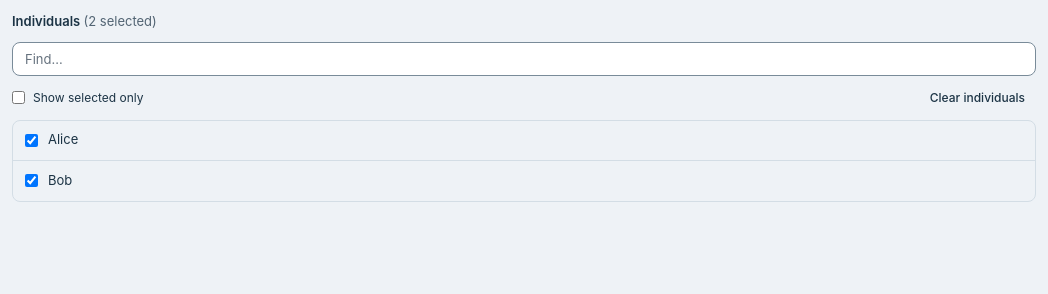
Test: keeps selected-only choices stable while changing live selections, until search or mode refreshes
Expected: the checkbox labelled "Alice" is shown, 25,134 -> 38,146
Click the checkbox labelled "Show selected only" at (18, 98), box 12,91 -> 25,104
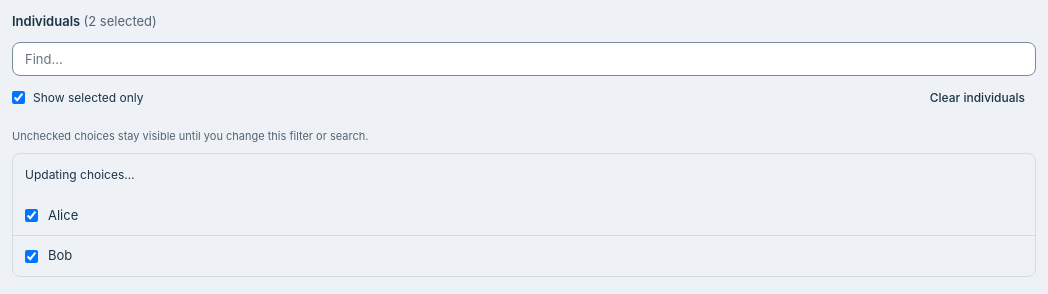
Click the checkbox labelled "Alice" at (32, 216), box 25,209 -> 38,222
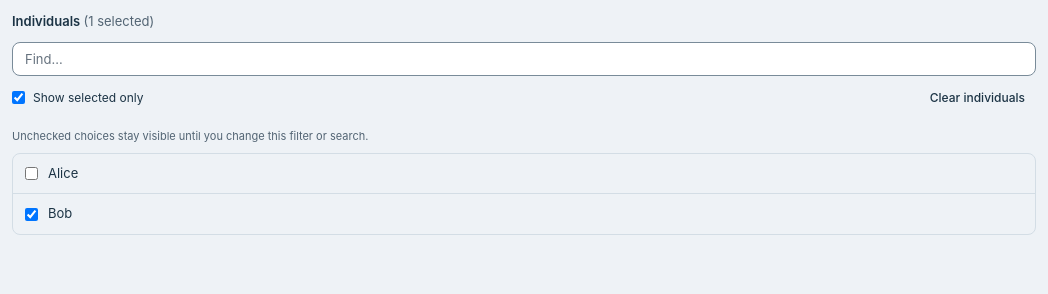
Expected: the checkbox labelled "Alice" is not checked
Expected: the text "(1 selected)" is shown, 84,13 -> 154,29
Click the checkbox labelled "Alice" at (32, 174), box 25,167 -> 38,180
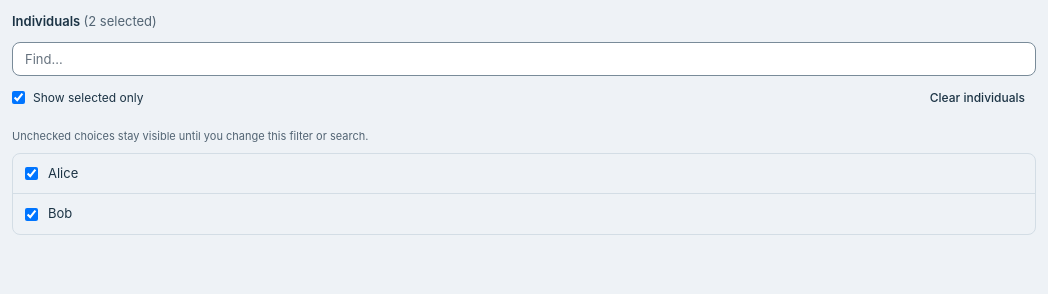
Expected: the checkbox labelled "Alice" is checked
Click the checkbox labelled "Alice" at (32, 174), box 25,167 -> 38,180
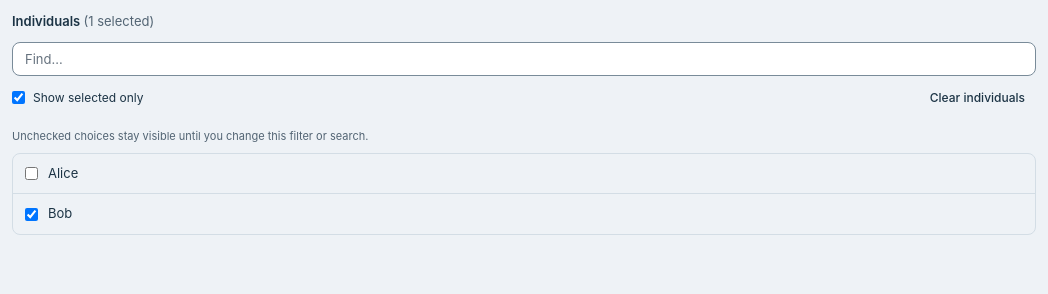
Type "alice" into the field named "Find individuals" at (524, 58), box 12,42 -> 1036,76
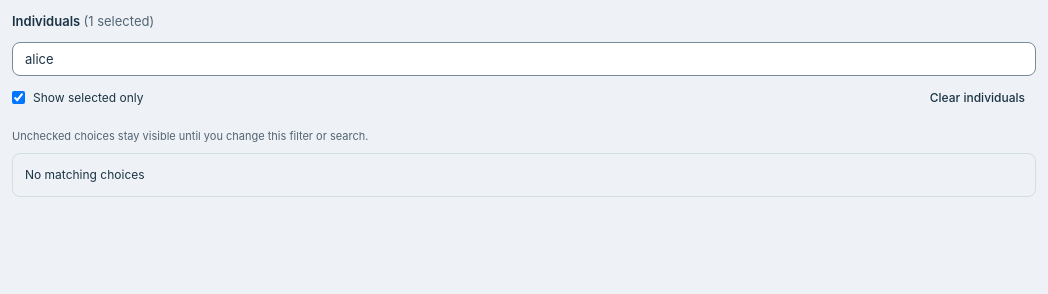
Expected: the text "No matching choices" is shown, 25,167 -> 145,182
